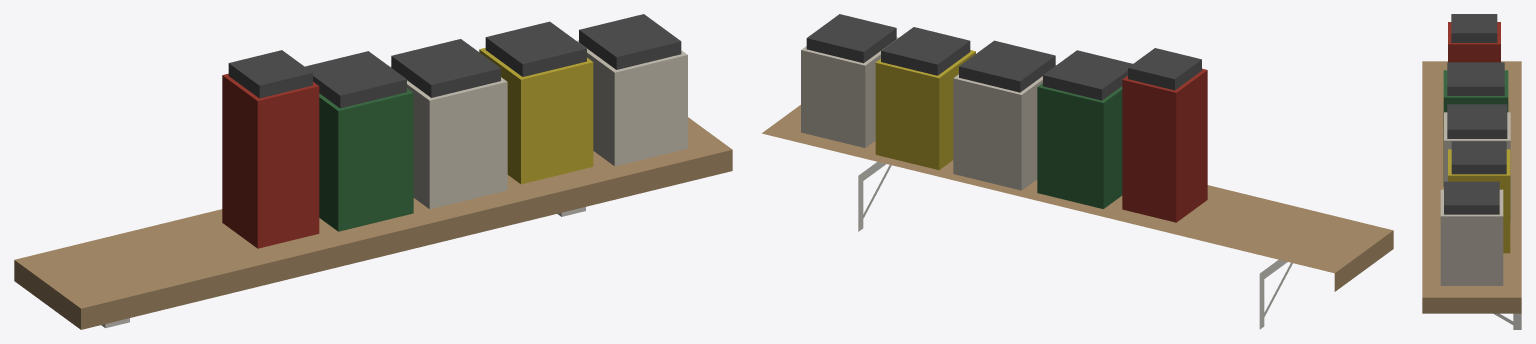
File: shelf.wall.jars.glb
The picture shows the model from 3 angles, left to right: view 1: azimuth 30°, elevation 25°; view 2: azimuth 150°, elevation 25°; view 3: azimuth 270°, elevation 25°; orthographic projection. The views are drawn at different scales.
Visible parts, largest first — view 1: shelf_wall_jars; view 2: shelf_wall_jars; view 3: shelf_wall_jars.
Part boxes in pixels (left/top/right/bottom): shelf_wall_jars: left=14, top=14, right=732, bottom=329; shelf_wall_jars: left=762, top=14, right=1393, bottom=329; shelf_wall_jars: left=1422, top=14, right=1521, bottom=329.
Size of what is drawn, in the model's own units: 0.8 by 0.2881 by 0.142.
